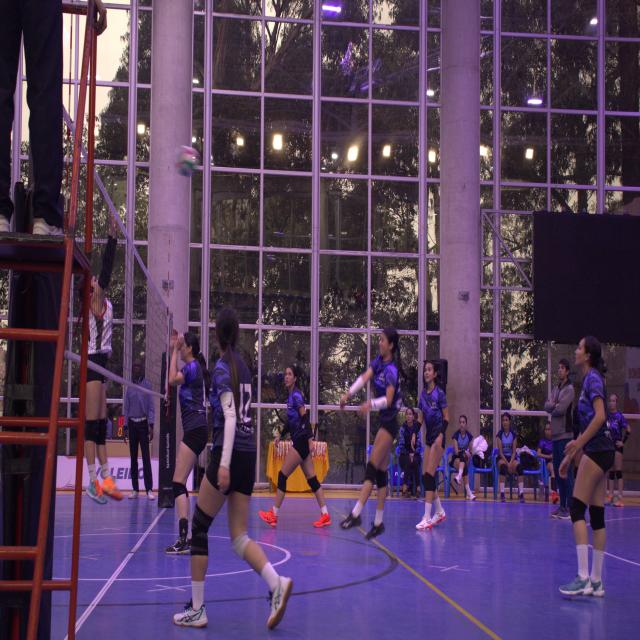volleyball: (172, 147, 202, 177)
